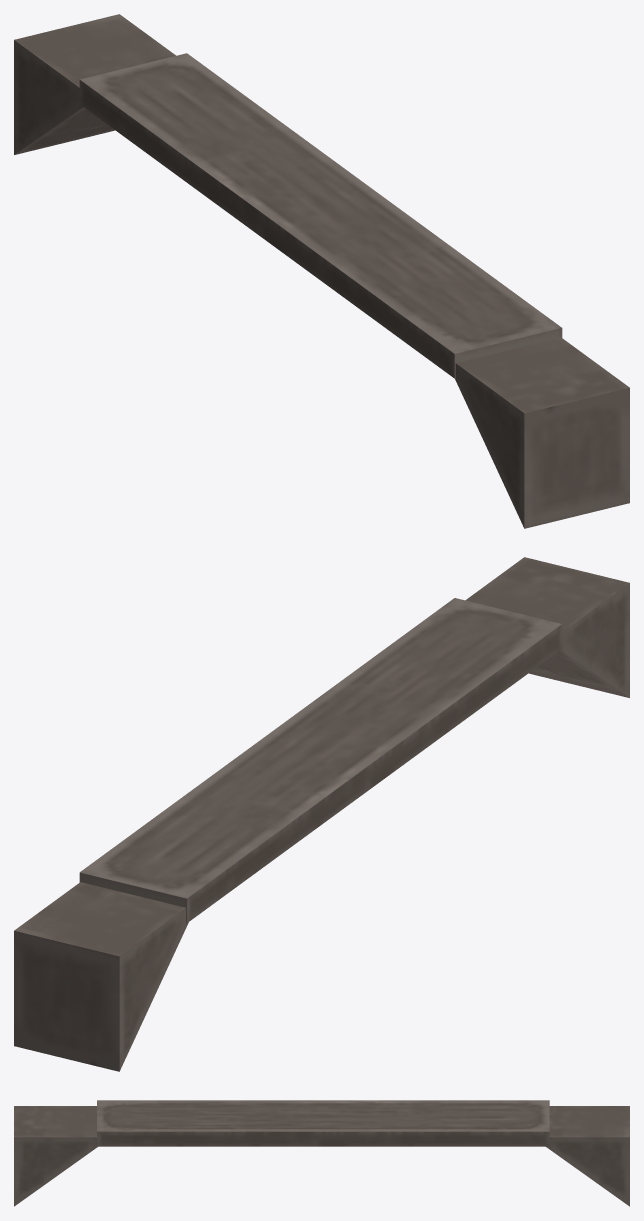
The model's file is trapBridge.fbx.
The picture shows the model from 3 angles, top to bottom: view 1: azimuth 30°, elevation 25°; view 2: azimuth 150°, elevation 25°; view 3: azimuth 270°, elevation 25°; orthographic projection. The views are drawn at different scales.
Parts seen in each view (by area): view 1: pCube4; view 2: pCube4; view 3: pCube4.
Part boxes in pixels (left/top/right/bottom): pCube4: left=14, top=14, right=629, bottom=528; pCube4: left=14, top=557, right=629, bottom=1071; pCube4: left=14, top=1100, right=629, bottom=1206.
Size of the model in its own units: 523 by 580 by 4302.
